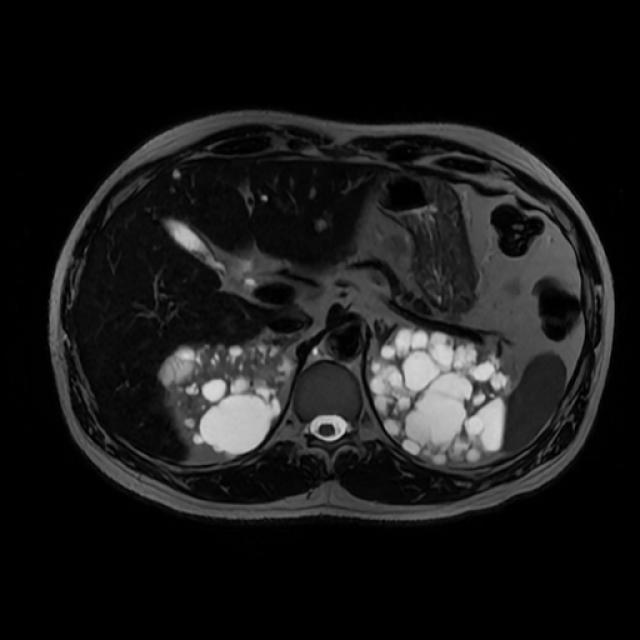sag: (159, 342, 291, 454)
sol: (371, 327, 511, 463)
